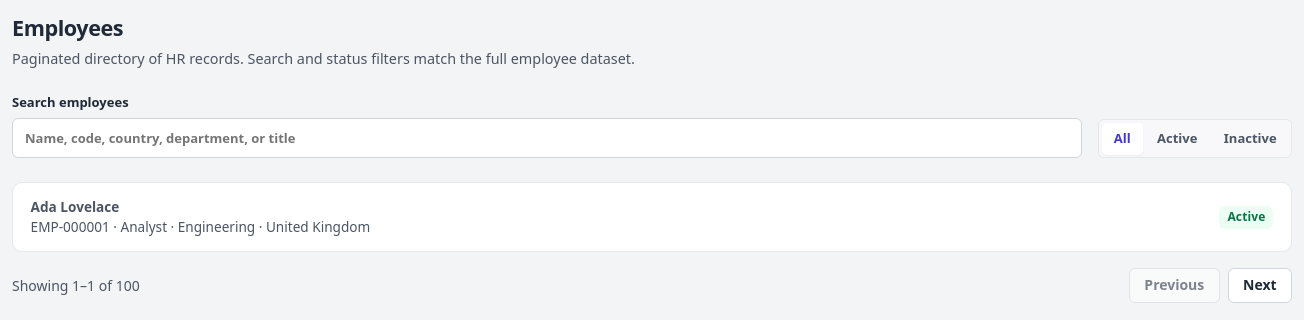
Test: changing status resets pagination to the first page
Expected: the text "Ada Lovelace" is shown, [31,197,119,216]
Click the button "Next": (1260, 286) [1228,268,1292,303]
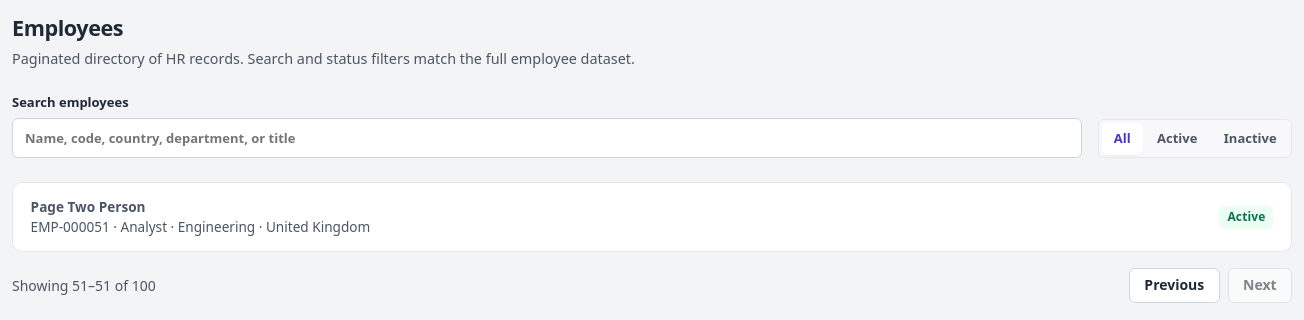
Result: the text "Page Two Person" is shown at [31,197,146,216]
Click the button "Inactive": (1250, 139) [1212,123,1289,155]
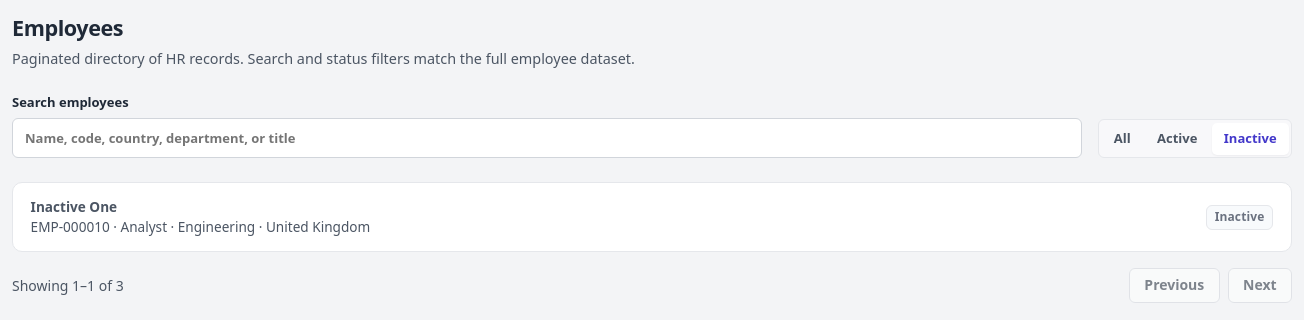
Result: the text "Inactive One" is shown at [31,197,117,216]
